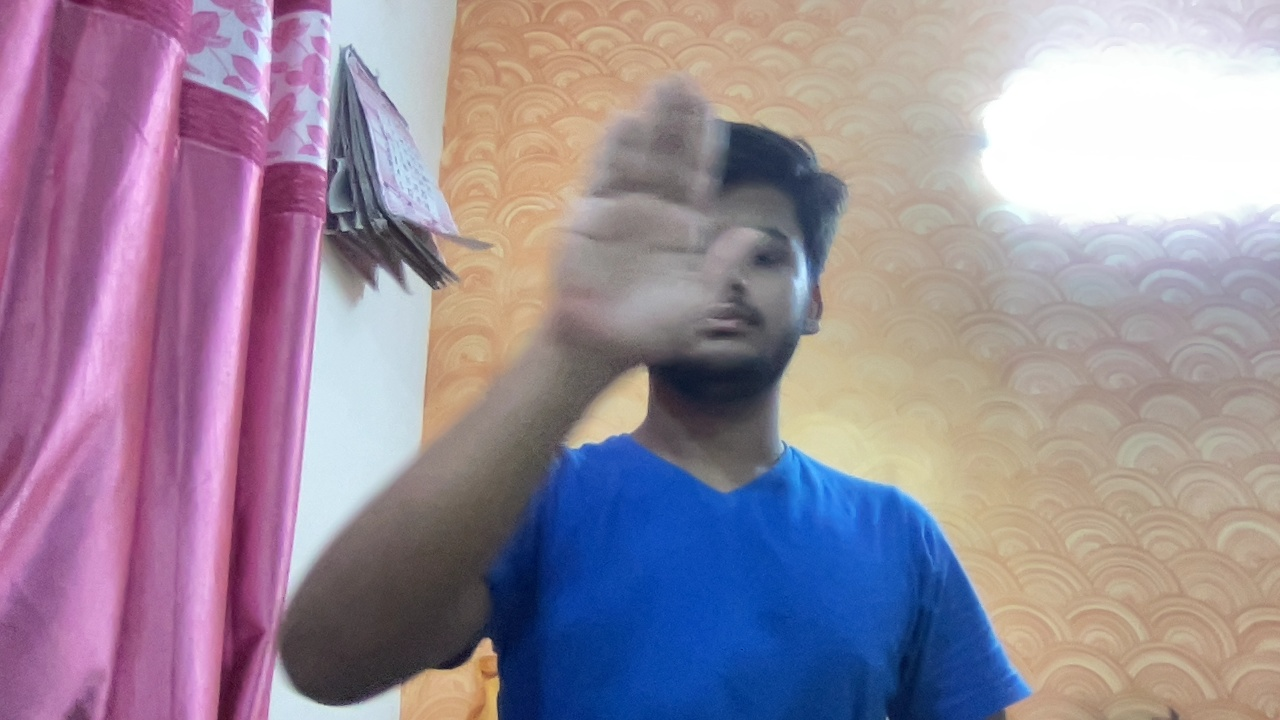hello: (548, 70, 760, 416)
